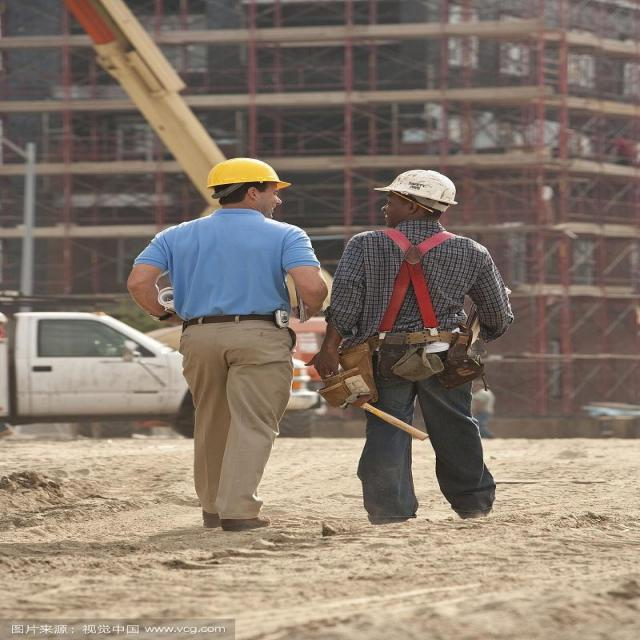hat: (371, 165, 468, 208), (202, 153, 294, 193)
